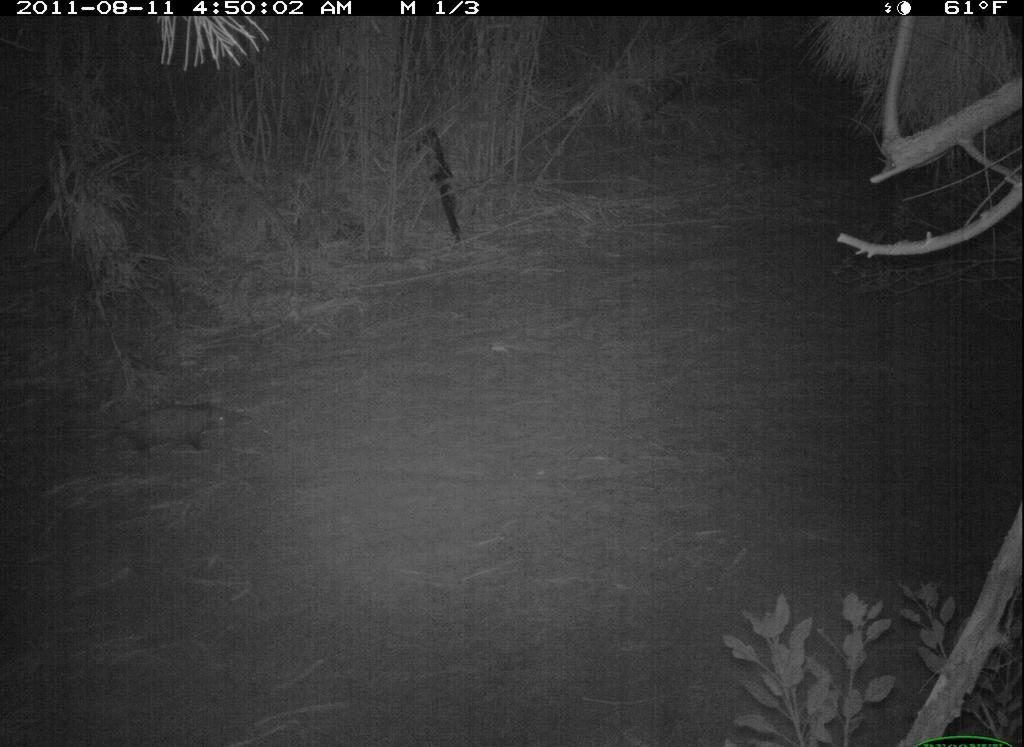opossum: (116, 391, 251, 470)
